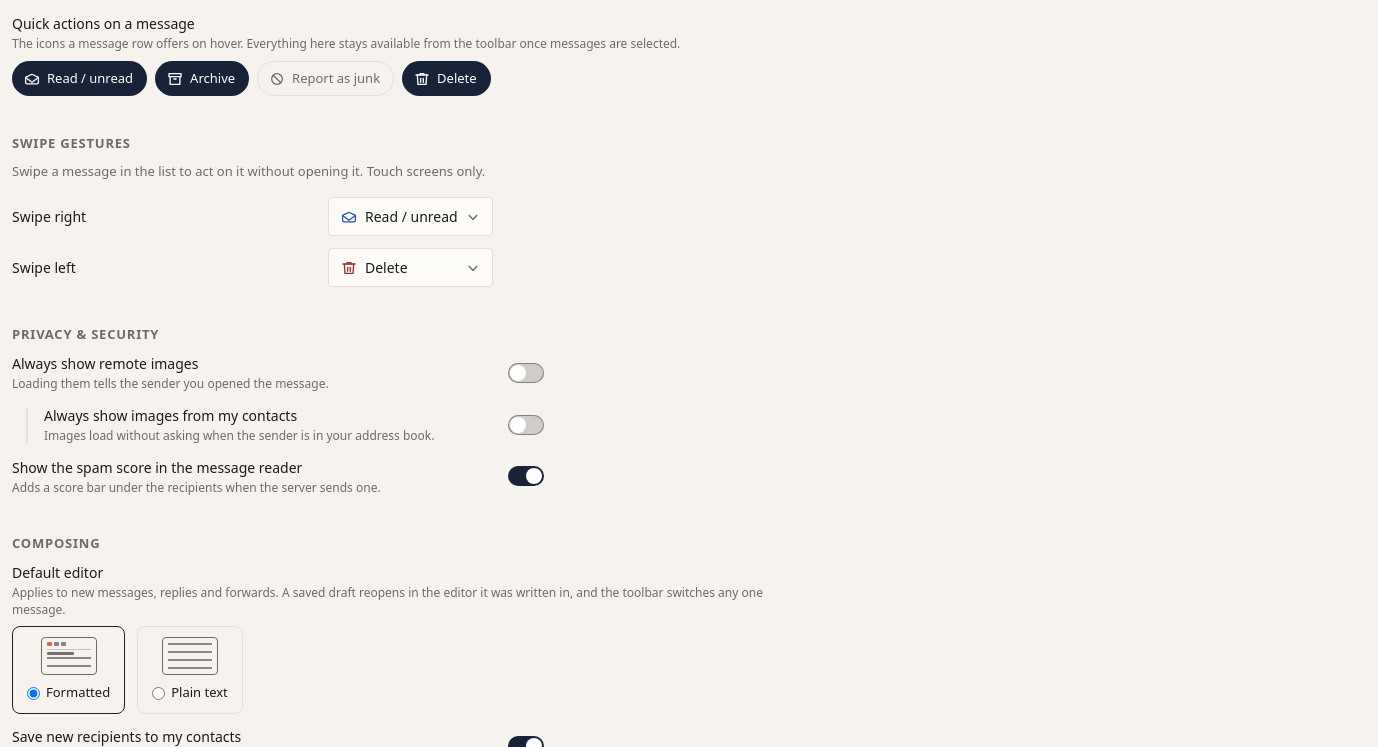
MailGeneralPage › saves the images toggle and warns about what it costs
(page scrolled)
Click the checkbox labelled "Always show remote images" at (105, 364), box [12,354,198,373]
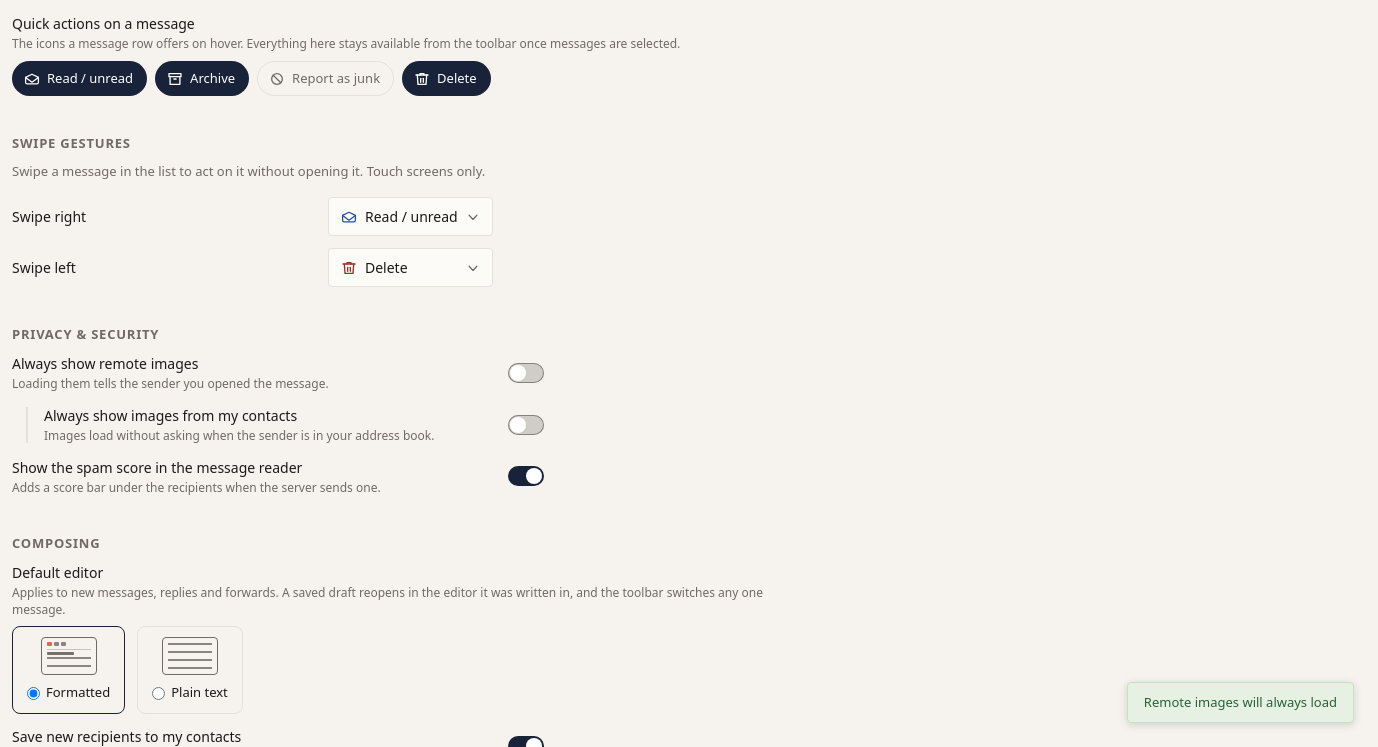
Expected: the text "Remote images will always load" is shown, [1144,692,1337,712]
